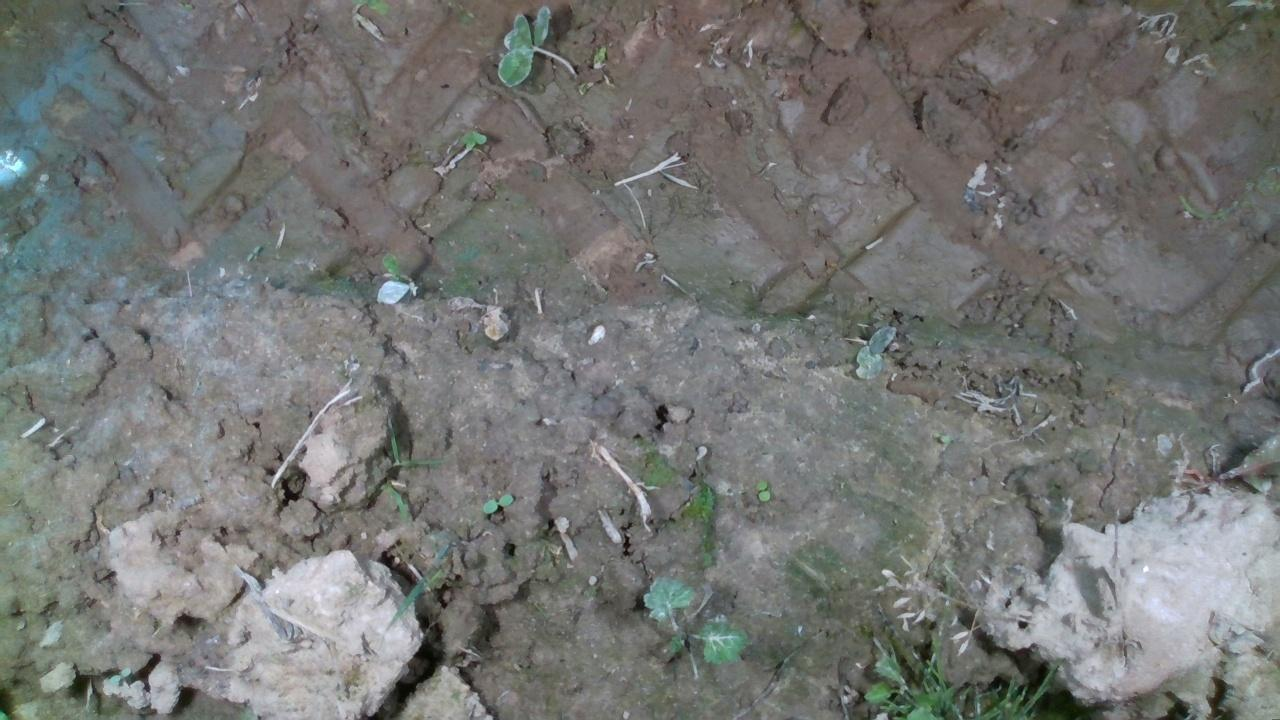weed: (480, 491, 513, 513), (754, 477, 769, 502)
